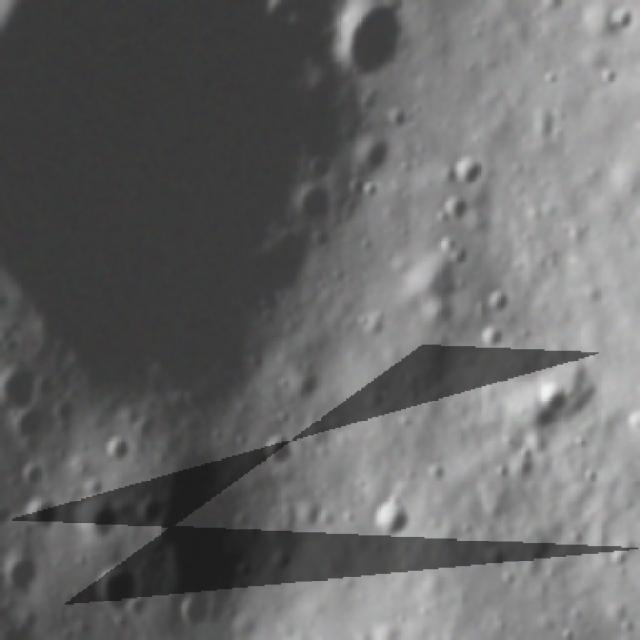crater: (0, 0, 371, 428), (333, 0, 410, 102), (0, 361, 58, 421), (86, 568, 148, 622), (71, 494, 124, 548), (171, 584, 224, 636), (369, 494, 422, 546), (0, 554, 43, 604), (448, 144, 486, 196), (22, 496, 59, 533), (210, 631, 262, 640)
